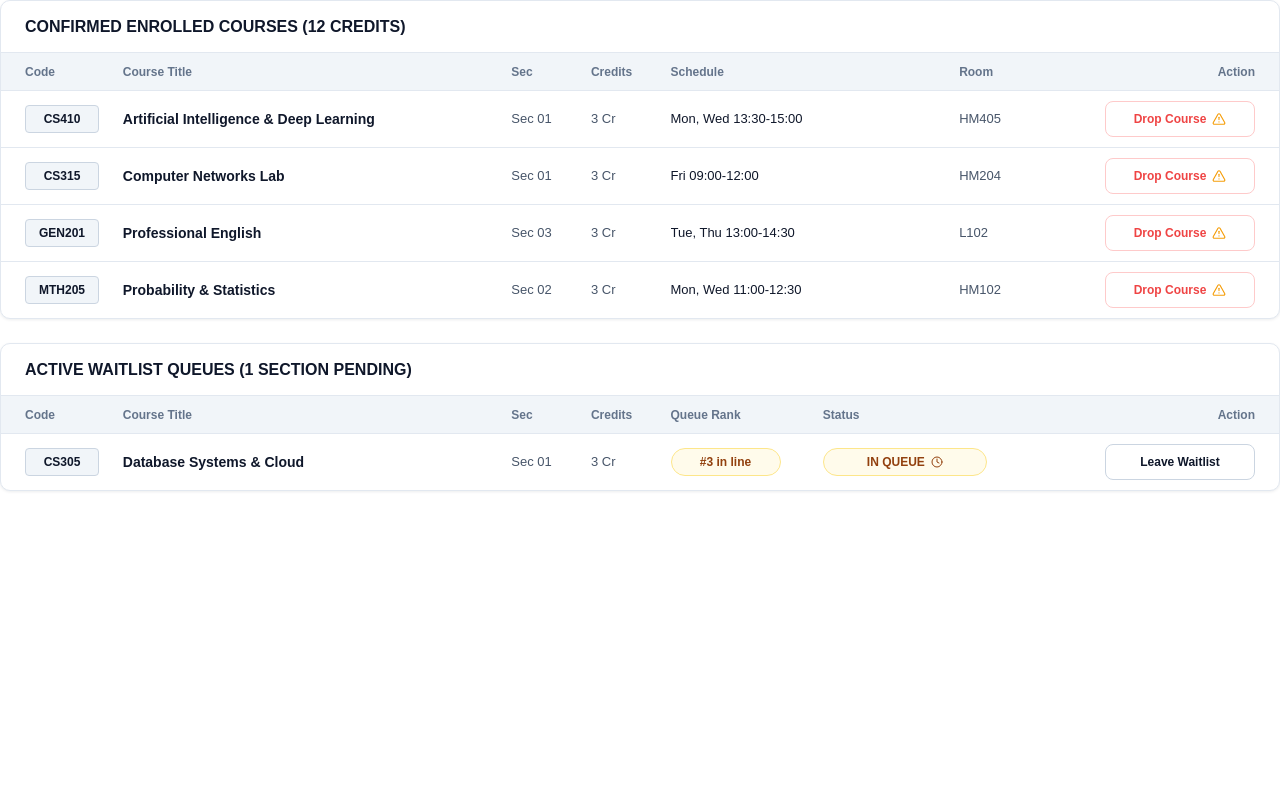
Test: RegisteredPage › asks before dropping and keeps the seat on cancel
The image size is (1280, 800).
Expected: the text "Artificial Intelligence & Deep Learning" is shown, [123, 111, 375, 127]
Click the button "Drop Course" next to "HM405" at coordinates (1180, 119), box [1105, 101, 1255, 137]
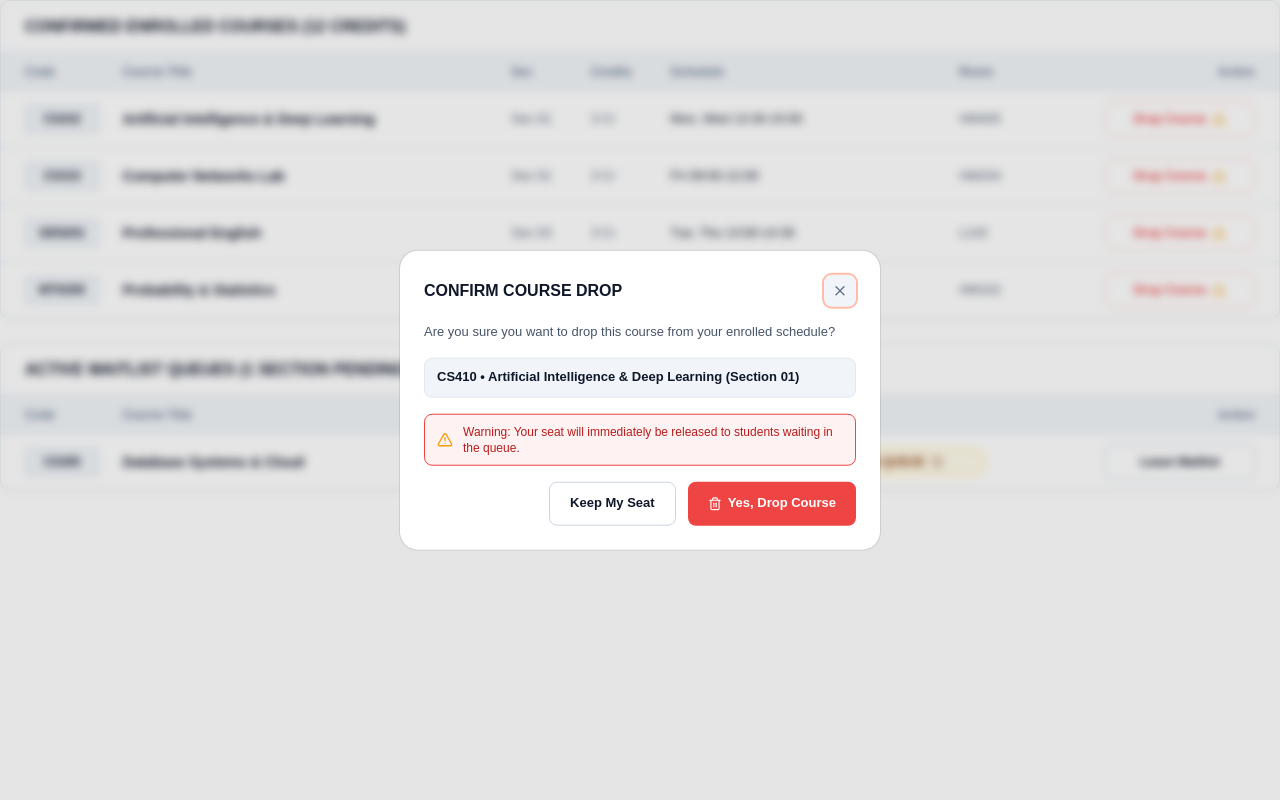
Expected: the heading "Confirm Course Drop" is shown, [424, 279, 622, 303]
Expected: the text "CS410 • Artificial Intelligence & Deep Learning (Section 01)" is shown, [424, 357, 856, 397]
Click the button "Keep My Seat" at coordinates (612, 503), box [549, 481, 676, 525]
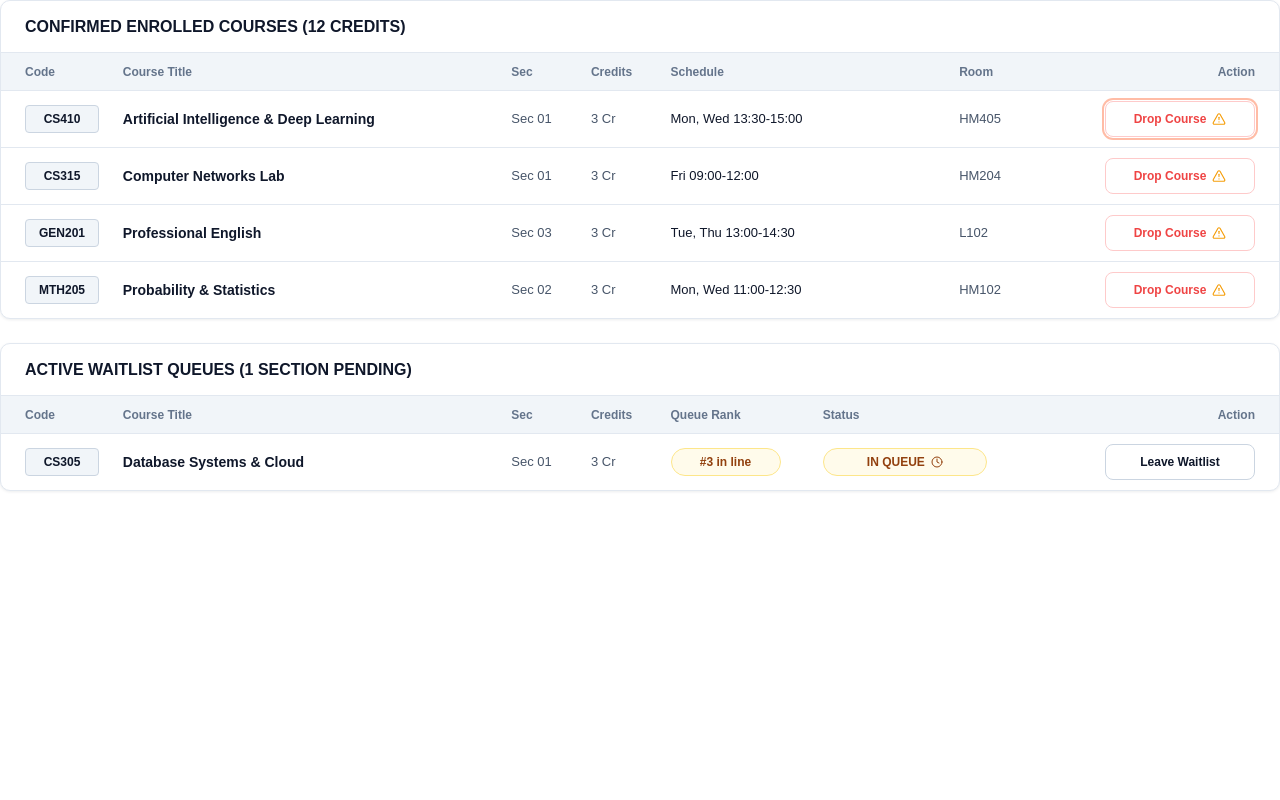
Expected: the text "Artificial Intelligence & Deep Learning" is shown, [123, 111, 375, 127]
Expected: the dialog is gone
